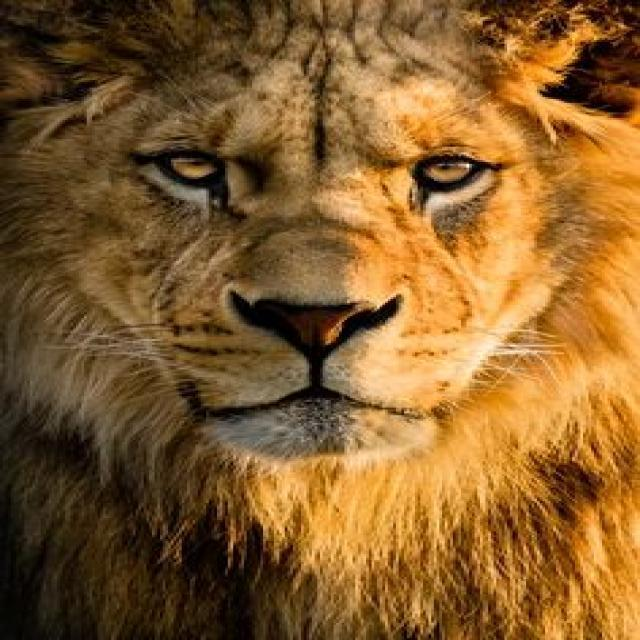lions: (0, 9, 640, 640)
